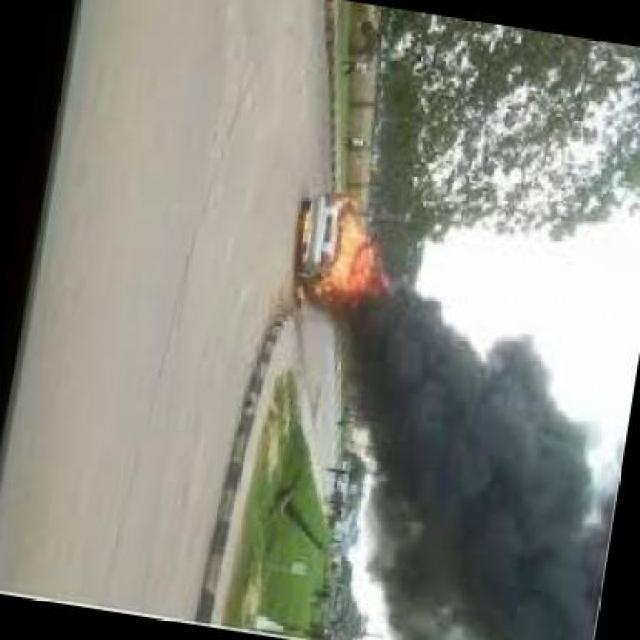Fire: (286, 186, 372, 314)
Smoke: (334, 308, 593, 640)
